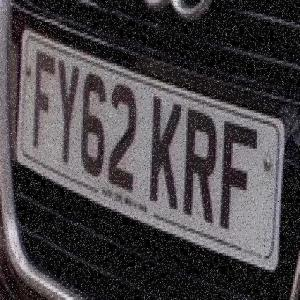Plate: (15, 20, 282, 270)
